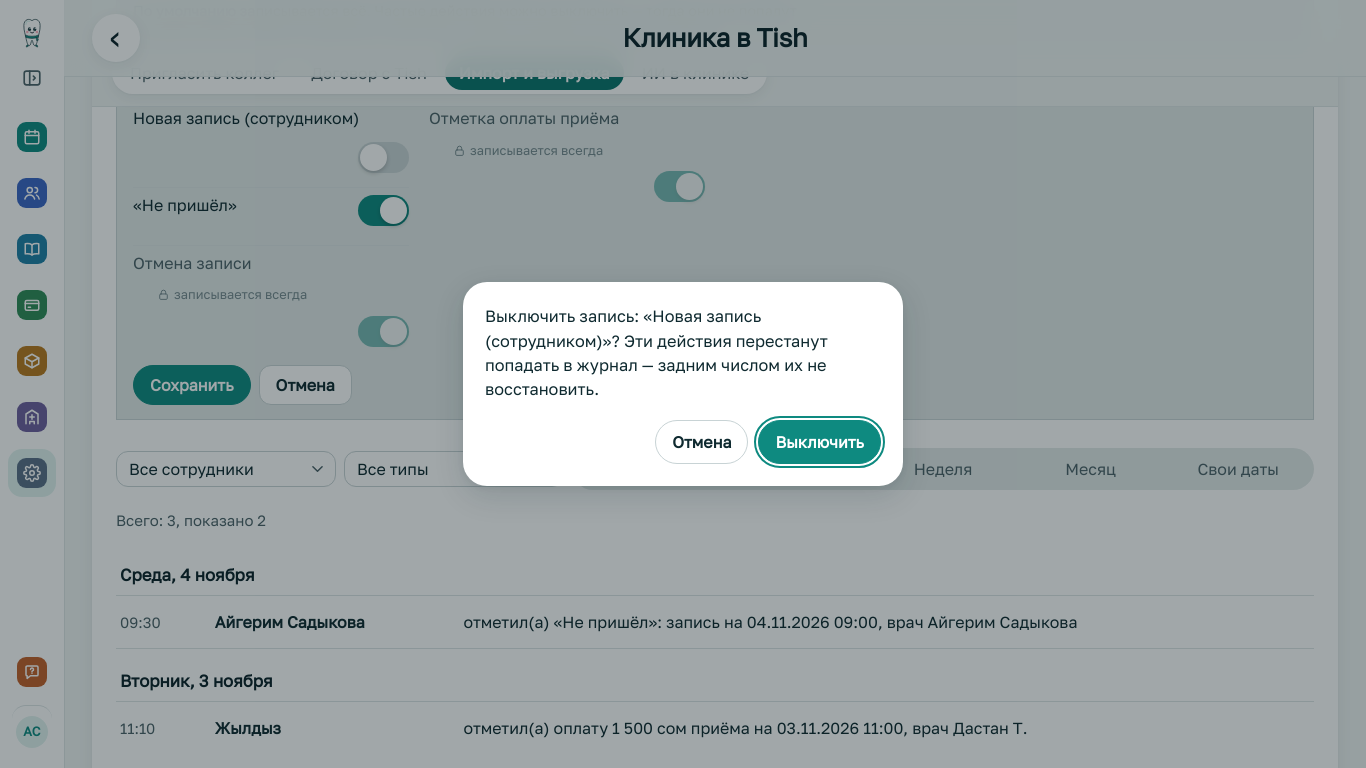
Test: сервер отклонил настройку — текст ошибки под галочками
The width and height of the screenshot is (1366, 768).
Earlier steps of the test are not shown.
(page scrolled)
Click the button "Выключить": point(820, 442) [758, 420, 881, 464]
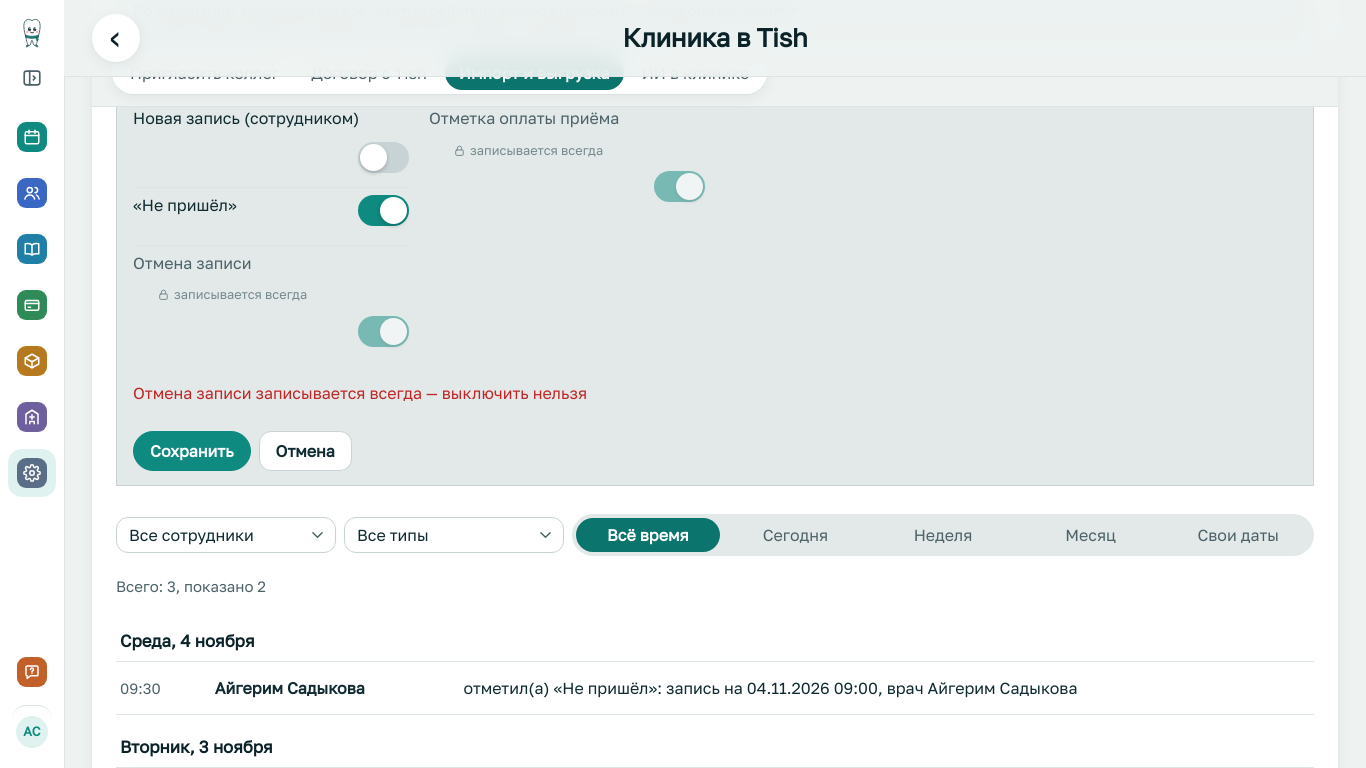
expect the message "Отмена записи записывается всегда — выключить нельзя" is shown: met, box [133, 382, 587, 402]
